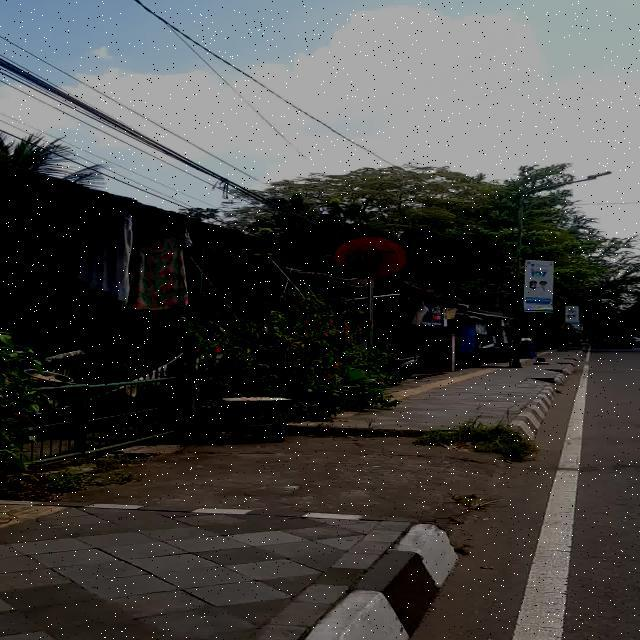Kecepatan Maks. 40 km: (332, 236, 406, 278)
